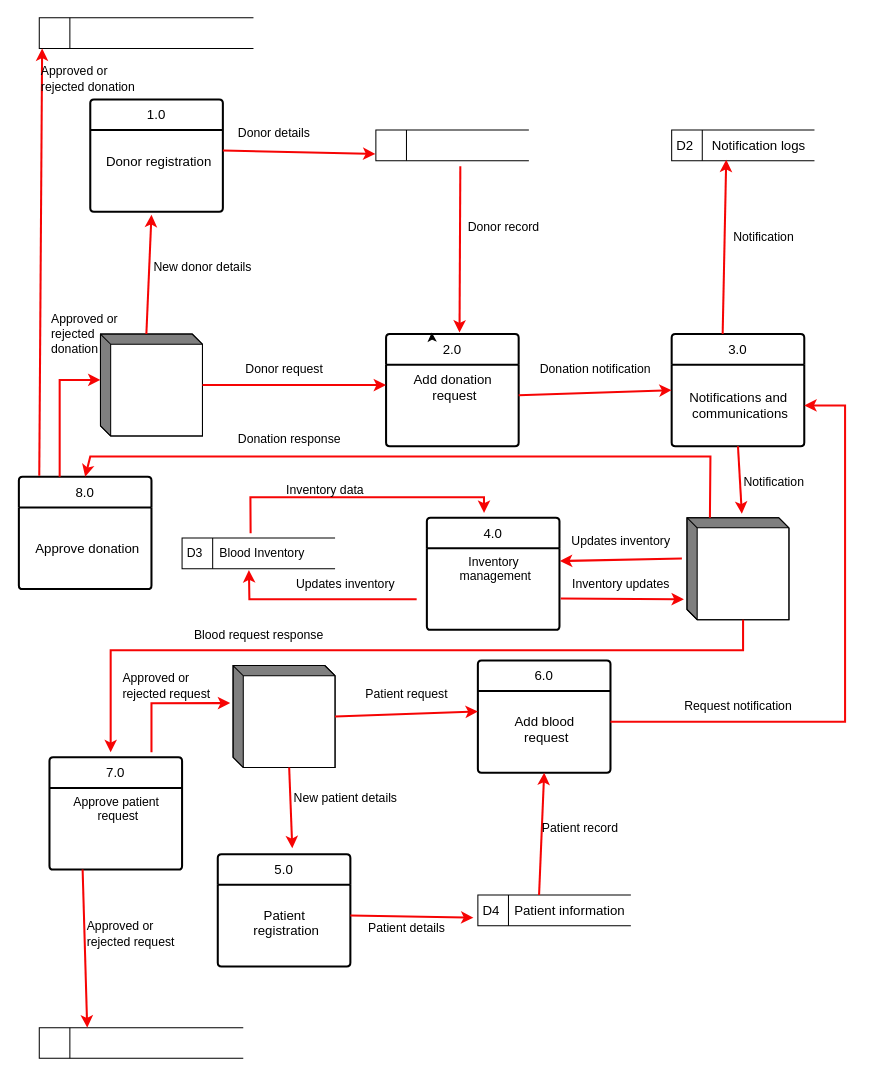
The diagram is 871 pixels wide and 1076 high, and some of its shapes have lost their labels. Here are the shapes that lost their labels. From the top down, the centre of each, then its label:
At point (145, 32): "D6 Donation records".
At point (452, 145): "D1 Donor information".
At point (150, 384): "Donor".
At point (737, 568): "Admin".
At point (283, 716): "Patient".
At point (140, 1042): "D5 Blood Request records".
